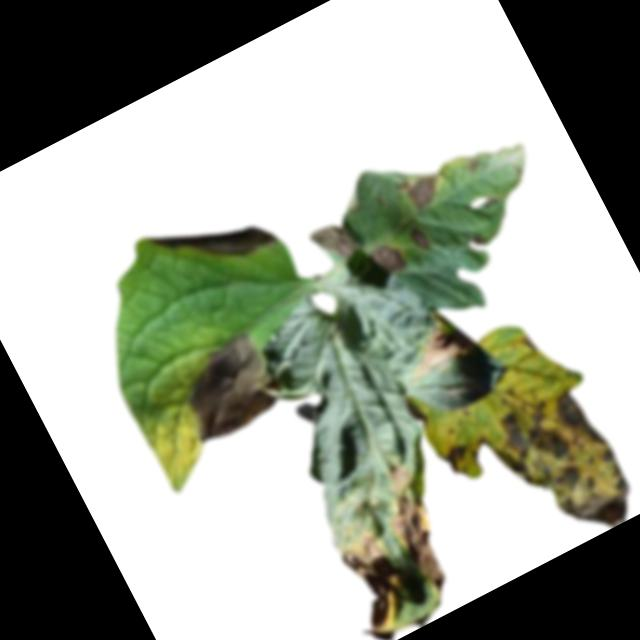Early_blight: (469, 374, 640, 565), (162, 330, 286, 449), (148, 185, 278, 292), (362, 460, 461, 598), (322, 517, 425, 640), (397, 316, 467, 380), (307, 211, 361, 269), (392, 162, 448, 215), (369, 237, 408, 278), (438, 440, 476, 479), (403, 396, 430, 432), (406, 224, 432, 255), (478, 189, 500, 209), (462, 153, 483, 173)
